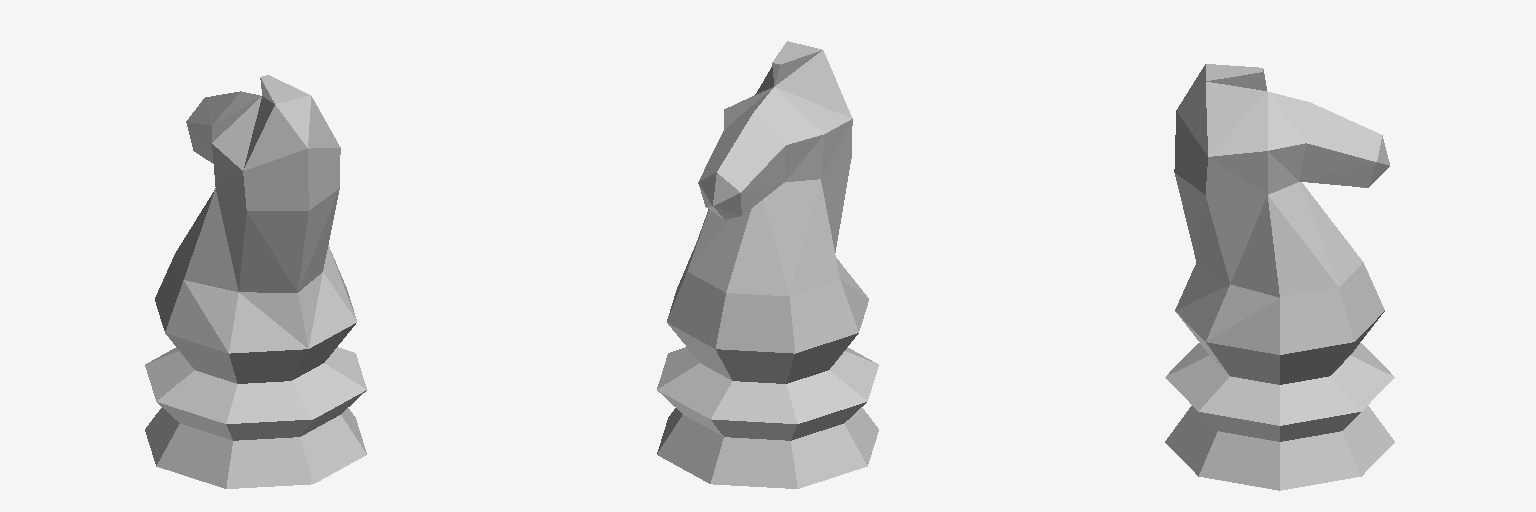
The model's file is knight.obj.
The picture shows the model from 3 angles: view 1: azimuth 30°, elevation 25°; view 2: azimuth 150°, elevation 25°; view 3: azimuth 270°, elevation 25°; orthographic projection.
Parts seen in each view (by area): view 1: Circle.002; view 2: Circle.002; view 3: Circle.002.
Boxes of the visible parts, x1,y1,x2,y2 form: Circle.002: [145, 75, 366, 488]; Circle.002: [657, 41, 878, 488]; Circle.002: [1165, 64, 1394, 490].
Size of the model in its own units: 0.14 by 0.2496 by 0.14.